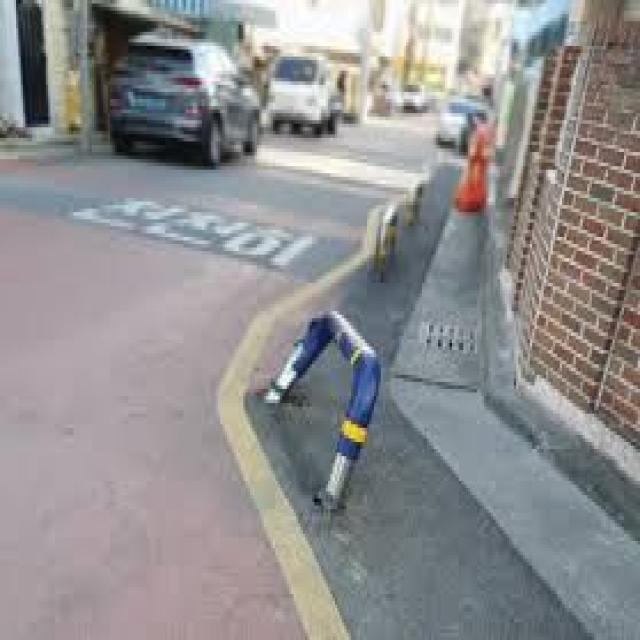bollard: (256, 277, 386, 528), (363, 185, 404, 288), (409, 166, 431, 248)
